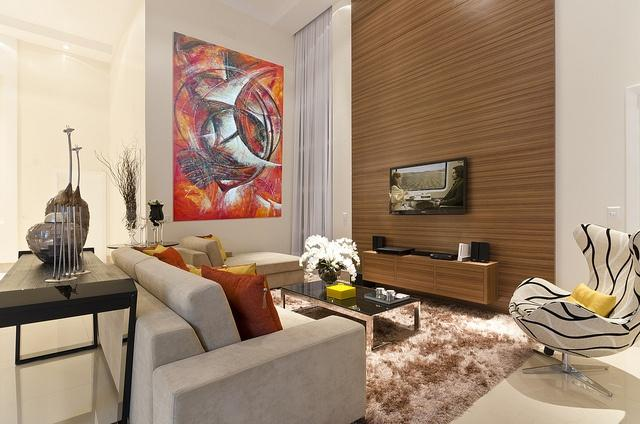AIO PC-Monitor-TV: (387, 155, 468, 215)
